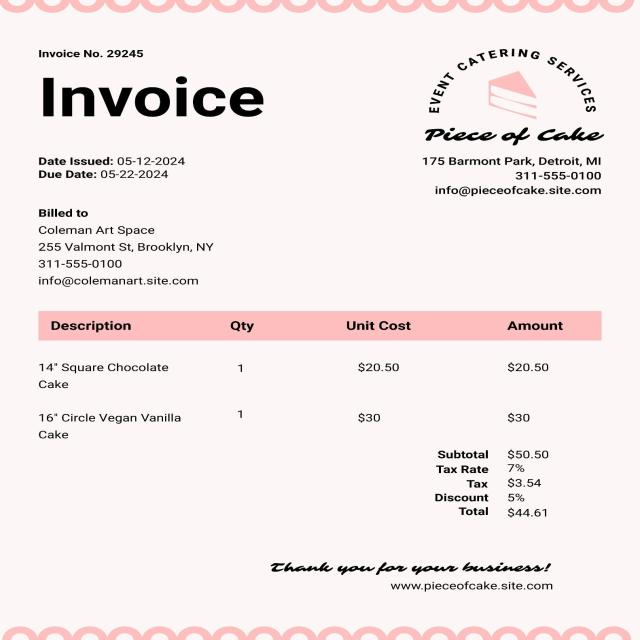paragraph: (410, 38, 616, 212), (27, 203, 225, 298), (255, 551, 576, 609), (30, 68, 274, 129), (432, 448, 560, 524), (32, 145, 198, 191), (35, 42, 153, 67)
table: (24, 309, 594, 445)
